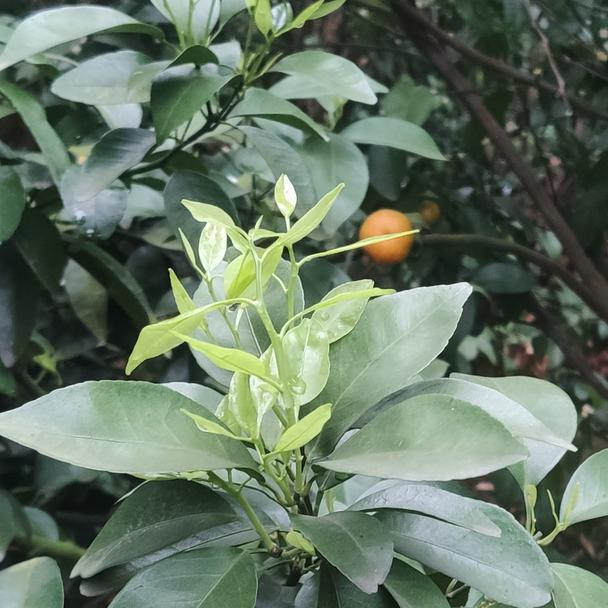shoot: (181, 198, 395, 427), (185, 369, 339, 485)
